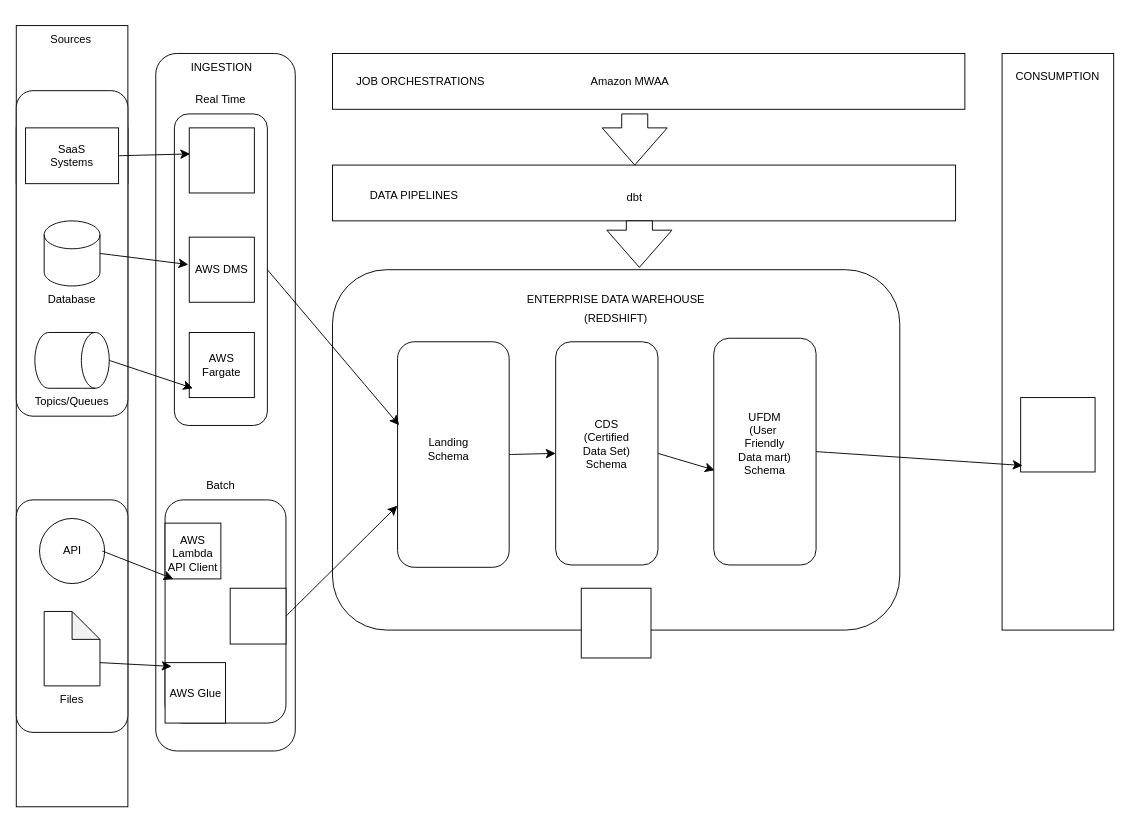
This 1130x823 diagram has some shape labels left out. The box of each missing label's shape, as (x1, y1, x2, y2) in pixels:
Amazon AppFlow: (188, 127, 254, 193)
Amazon QuickSight: (1020, 397, 1095, 472)
Amazon Redshift: (580, 587, 651, 658)
Amazon S3 Landing: (229, 587, 286, 644)
